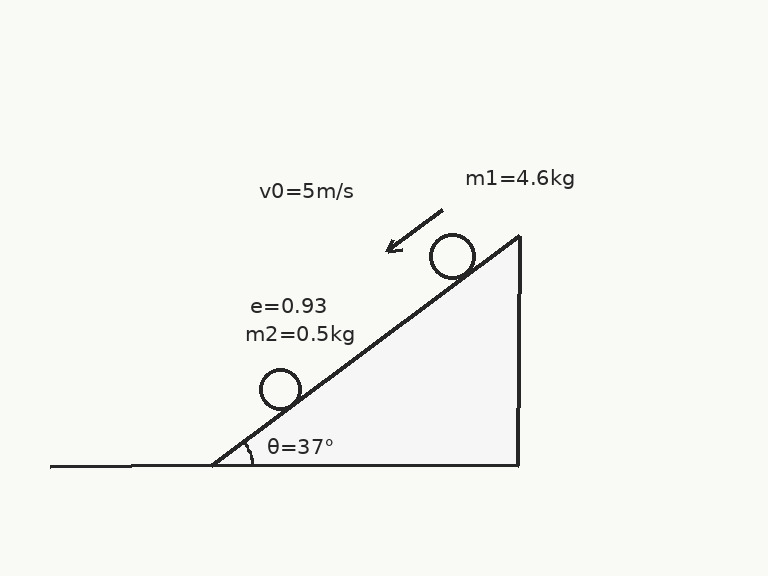ball: (427, 231, 477, 281), (257, 366, 303, 412)
ramp: (210, 233, 521, 468)
